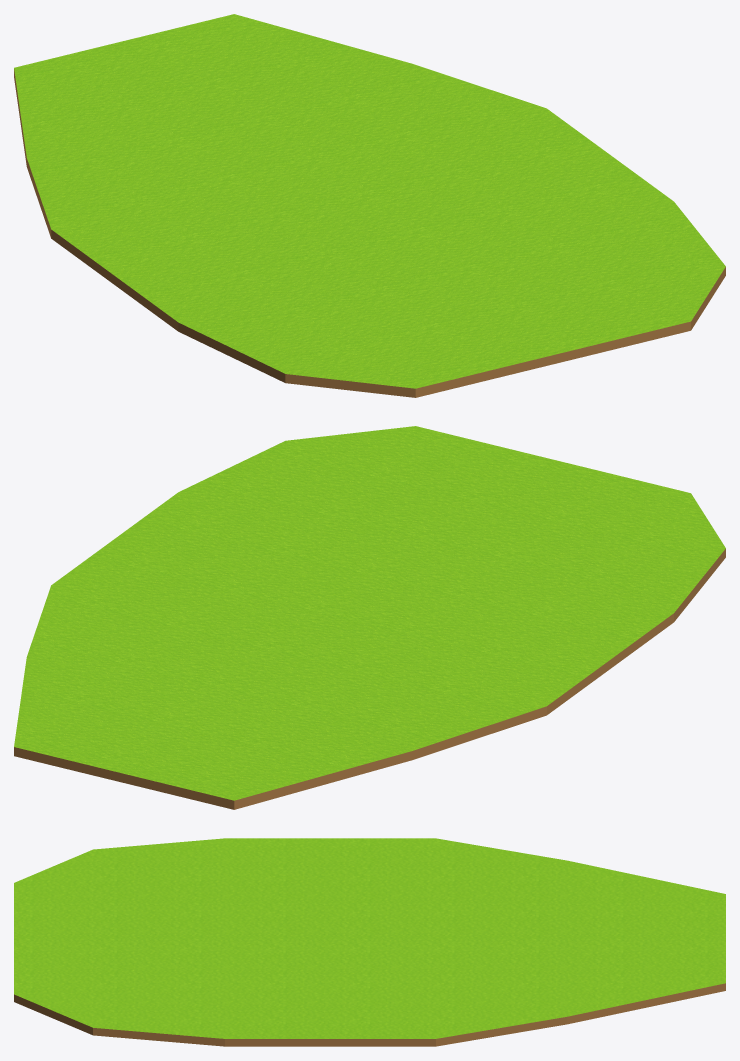
Rendered from surface-05-HTabdUMg.glb.
3 renders of one model, top to bottom at view 1: azimuth 30°, elevation 25°; view 2: azimuth 150°, elevation 25°; view 3: azimuth 270°, elevation 25°, orthographic. The views are drawn at different scales.
Parts seen in each view (by area): view 1: FLC_Surface_05; view 2: FLC_Surface_05; view 3: FLC_Surface_05.
Part boxes in pixels (x1=…): FLC_Surface_05: x1=14, y1=14, x2=725, y2=397; FLC_Surface_05: x1=14, y1=426, x2=725, y2=809; FLC_Surface_05: x1=14, y1=838, x2=725, y2=1046.
Size of the model in its own units: 18 by 0.32 by 27.
2 materials, 1 textured.
